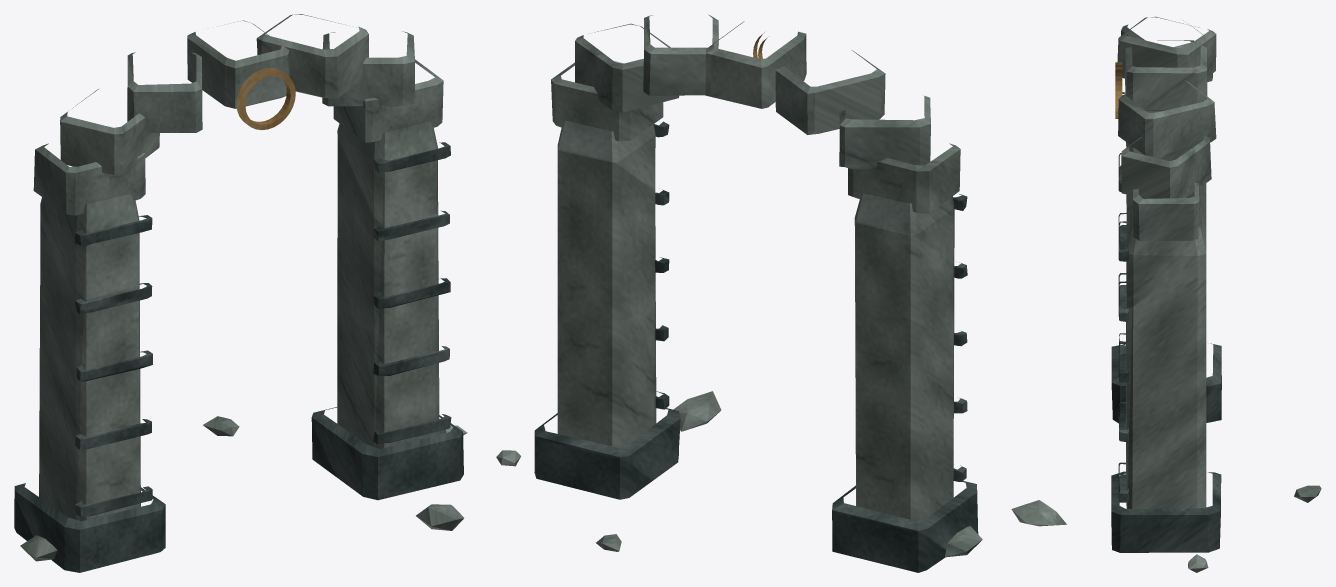
Rendered from 0305_archway_05.glb.
3 views of the same model, side by side, from view 1: azimuth 30°, elevation 25°; view 2: azimuth 150°, elevation 25°; view 3: azimuth 270°, elevation 25° (orthographic). The views are drawn at different scales.
Parts seen in each view (by area): view 1: stone, stone_dark, brass; view 2: stone, stone_dark; view 3: stone, stone_dark.
Part boxes in pixels (x1,y1,x2,y2): stone: [20, 14, 467, 561]; stone_dark: [14, 142, 463, 572]; brass: [236, 68, 295, 129]; stone: [496, 14, 982, 557]; stone_dark: [534, 121, 978, 572]; stone: [1011, 16, 1321, 572]; stone_dark: [1111, 92, 1221, 552].
Bounding box in the file's own units: 3.63 × 3.57 × 2.41.
Materials: 3 (3 with a texture image).
